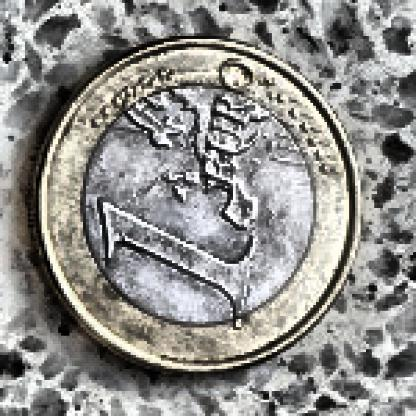coin: (37, 34, 360, 376)
